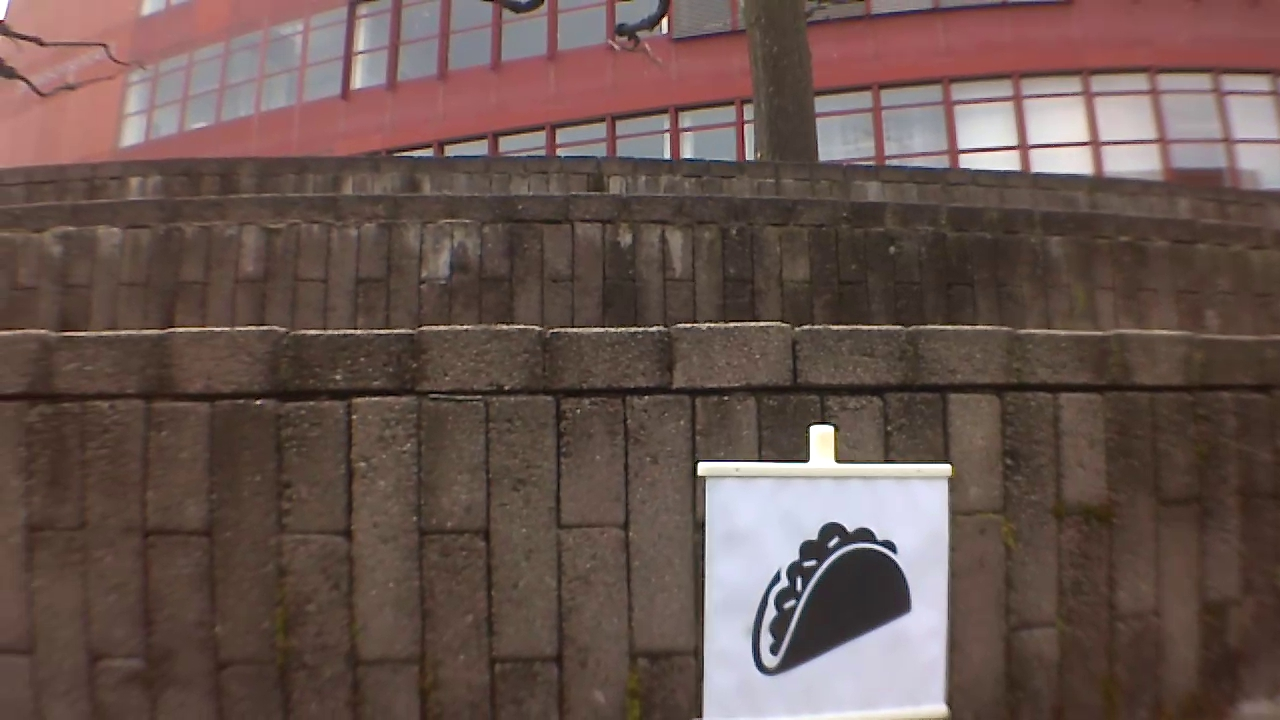taco: (740, 506, 921, 684)
